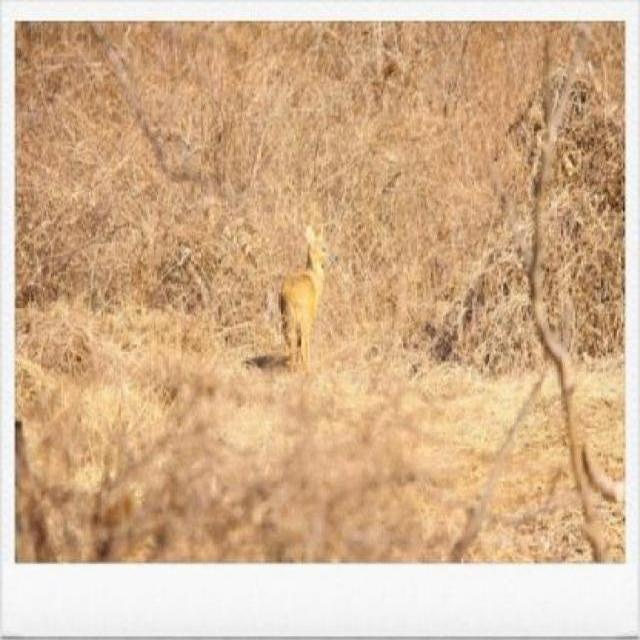deer: (280, 215, 334, 373)
